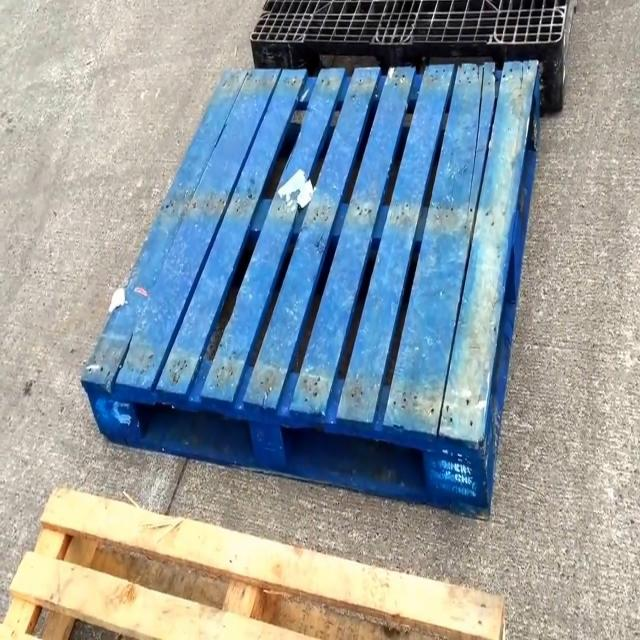Palette: (78, 56, 546, 518), (0, 484, 512, 640), (247, 0, 572, 116)
